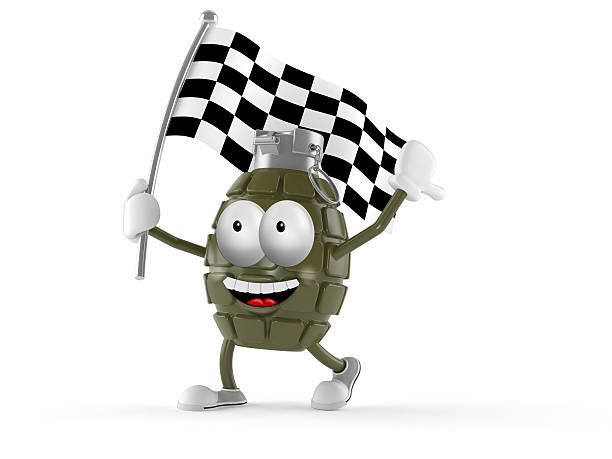e1: (199, 130, 346, 352)
